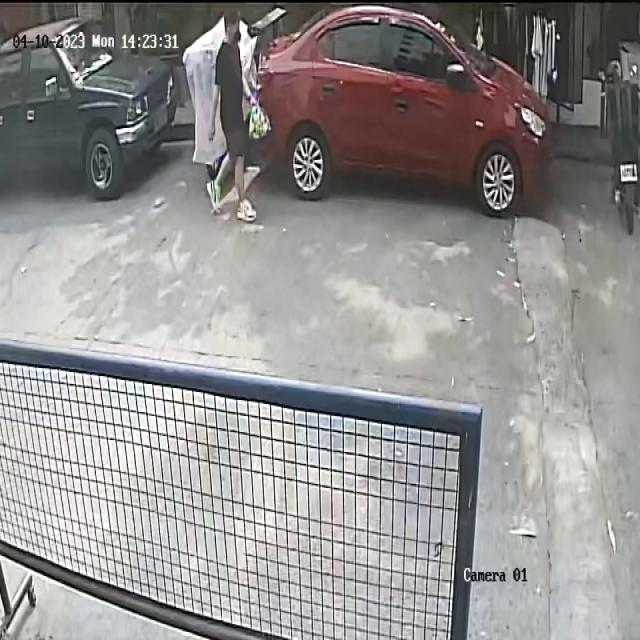garbage_dumping: (246, 95, 270, 136)
